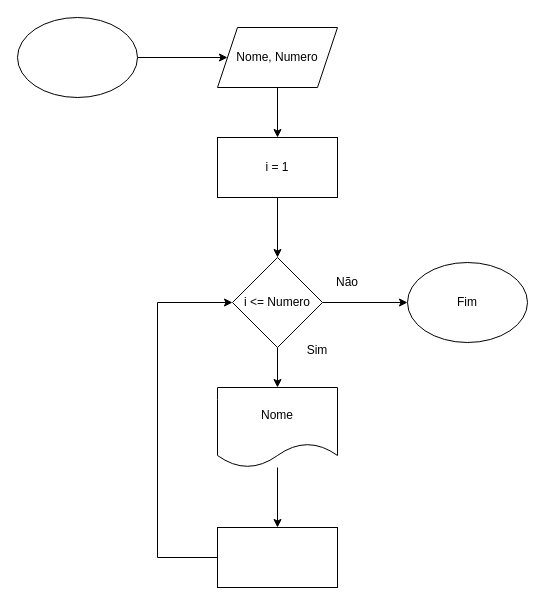
Image size: 545x605. Some labels were removed from this diagram. Here are the shapes that lost their labels. From the top down, the centre of each, then its label:
(x=77, y=57): Início
(x=277, y=557): i++
